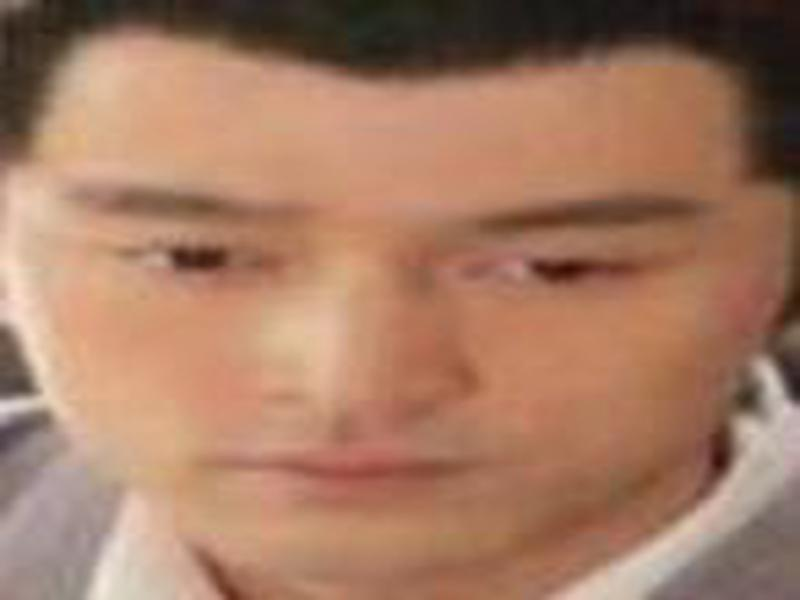without_mask: (6, 61, 772, 576)
